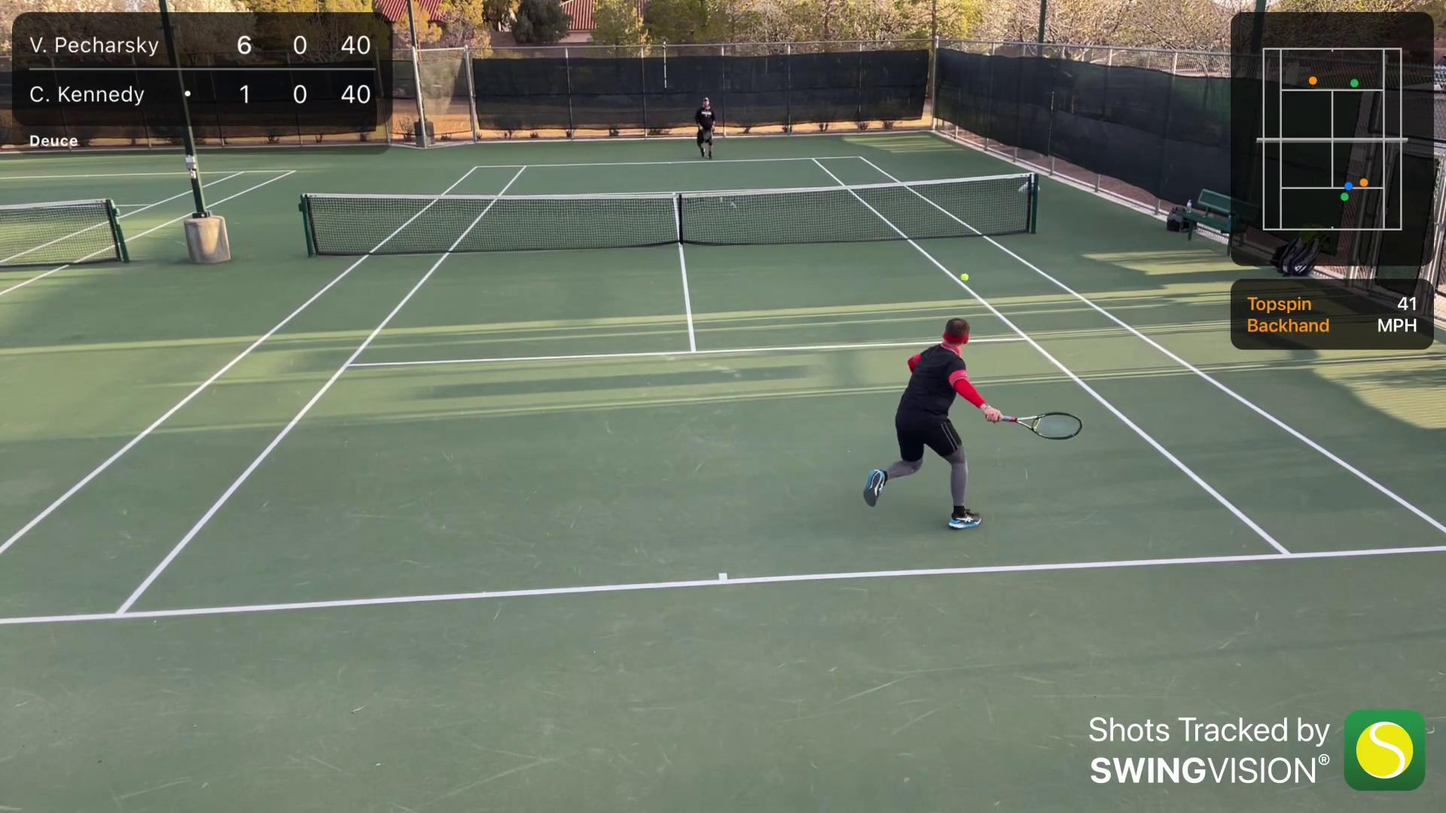ball: (959, 271, 970, 283)
